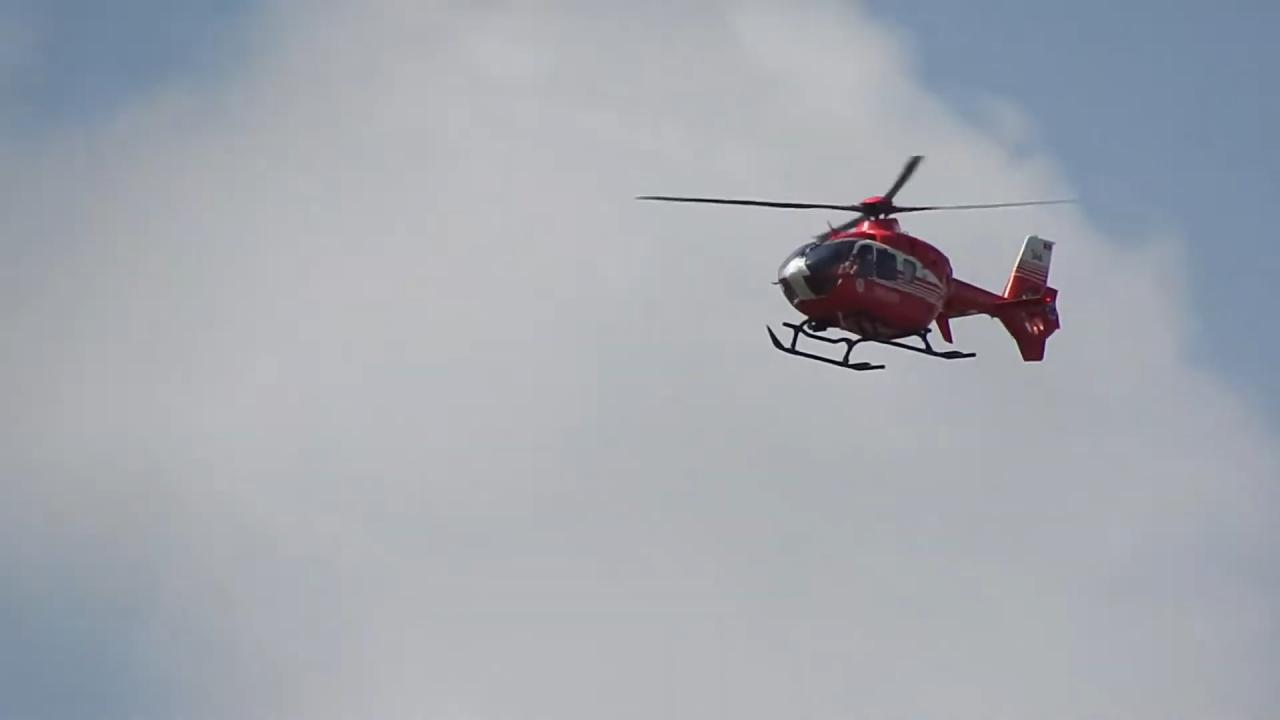Helicopter: (611, 122, 1125, 419)
